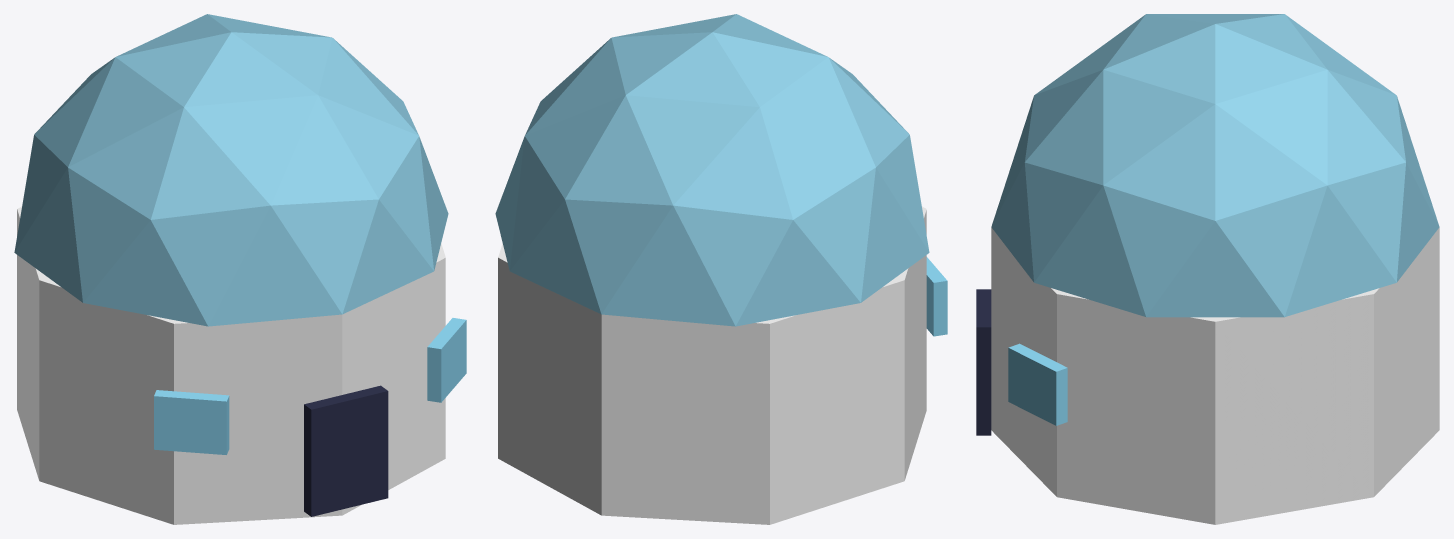
Rendered from habitat-pod.glb.
3 renders of one model, left to right at view 1: azimuth 30°, elevation 25°; view 2: azimuth 150°, elevation 25°; view 3: azimuth 270°, elevation 25°, orthographic.
Visible parts, largest first — view 1: space-habitat-pod; view 2: space-habitat-pod; view 3: space-habitat-pod.
Part boxes in pixels (bbox=[...]): space-habitat-pod: bbox=[14, 14, 466, 524]; space-habitat-pod: bbox=[495, 14, 947, 524]; space-habitat-pod: bbox=[976, 14, 1439, 524].
Bounding box in the file's own units: 0.6 × 0.6 × 0.62.
